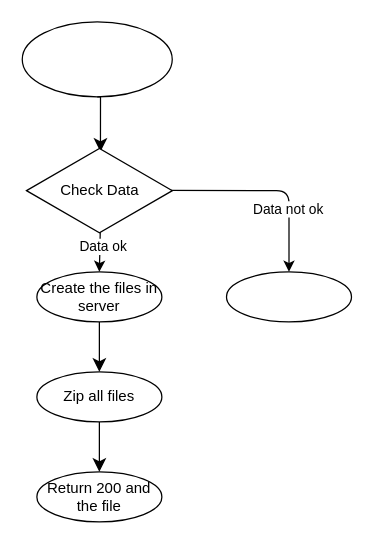
The diagram is 374 pixels wide and 544 high, and some of its shapes have lost their labels. Here are the shapes that lost their labels. From the top down, the centre of each, then its label:
At (x=96, y=59): "Receive Data From Frontend".
At (x=288, y=296): "Return 404".
